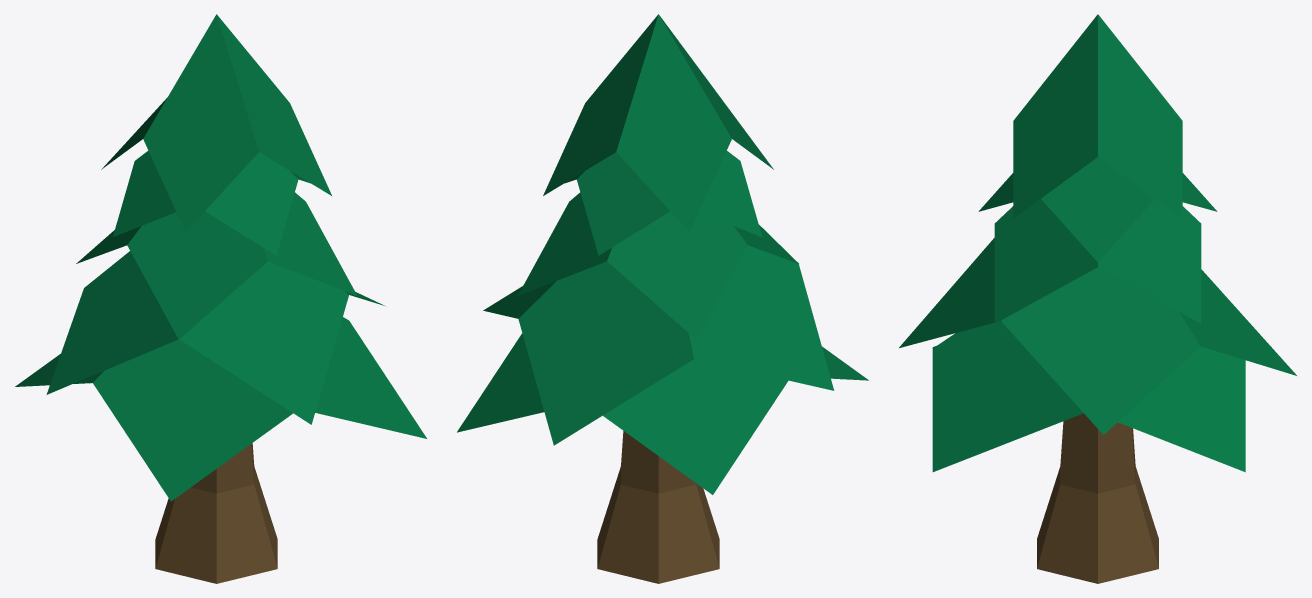
Rendered from Tree.fbx.
3 renders of one model, left to right at view 1: azimuth 30°, elevation 25°; view 2: azimuth 150°, elevation 25°; view 3: azimuth 270°, elevation 25°, orthographic.
Parts seen in each view (by area): view 1: Tree; view 2: Tree; view 3: Tree.
Part boxes in pixels (left/top/right/bottom): Tree: left=15, top=14, right=426, bottom=583; Tree: left=457, top=14, right=868, bottom=583; Tree: left=899, top=14, right=1296, bottom=583.
Size of the model in its own units: 634 by 947 by 634.
